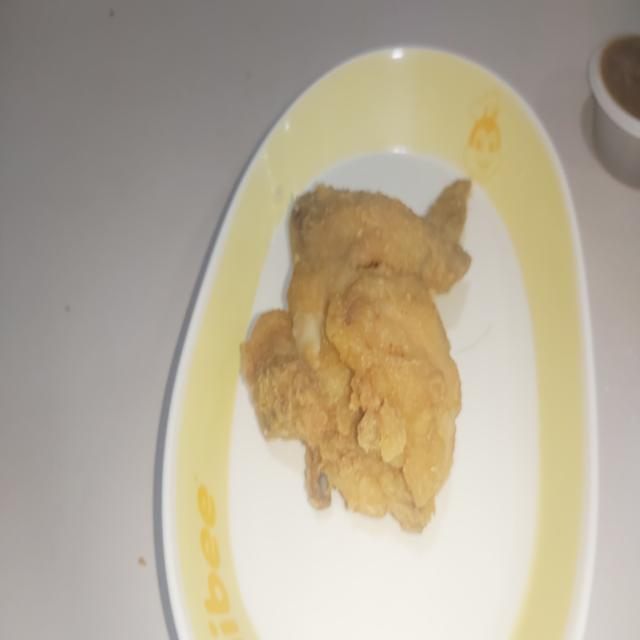Chicken -Fried Chicken-: (231, 172, 481, 536)
